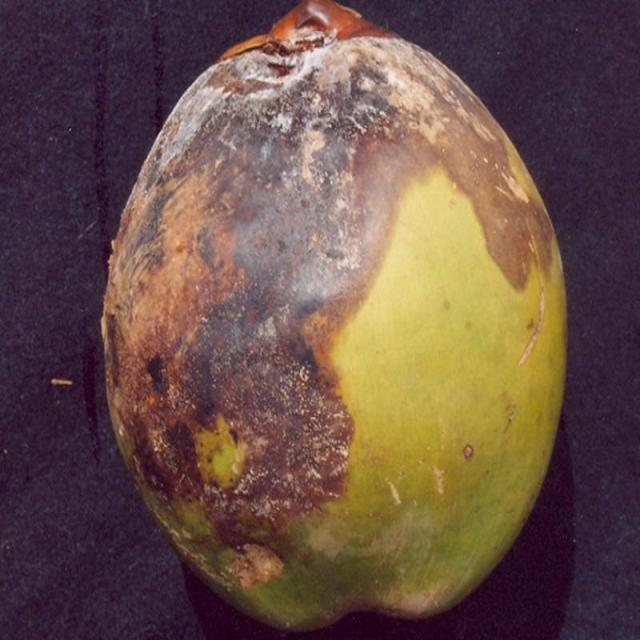damaged: (99, 0, 569, 637)
